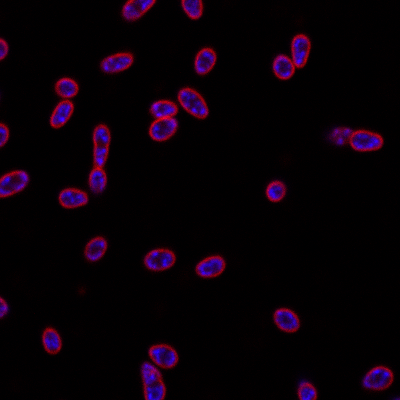Mecillinam: (175, 85, 209, 119), (89, 122, 112, 171), (141, 246, 176, 272), (148, 342, 180, 370), (349, 127, 384, 152), (47, 99, 75, 130), (290, 32, 313, 69), (194, 253, 228, 278), (82, 232, 110, 262), (272, 306, 301, 333), (191, 46, 218, 75), (57, 186, 90, 209), (272, 53, 296, 81), (40, 326, 63, 354), (264, 178, 286, 203), (54, 76, 79, 98)
Oblique: (360, 362, 395, 392), (146, 115, 180, 143), (99, 52, 133, 74), (87, 166, 109, 195), (148, 98, 178, 119)
